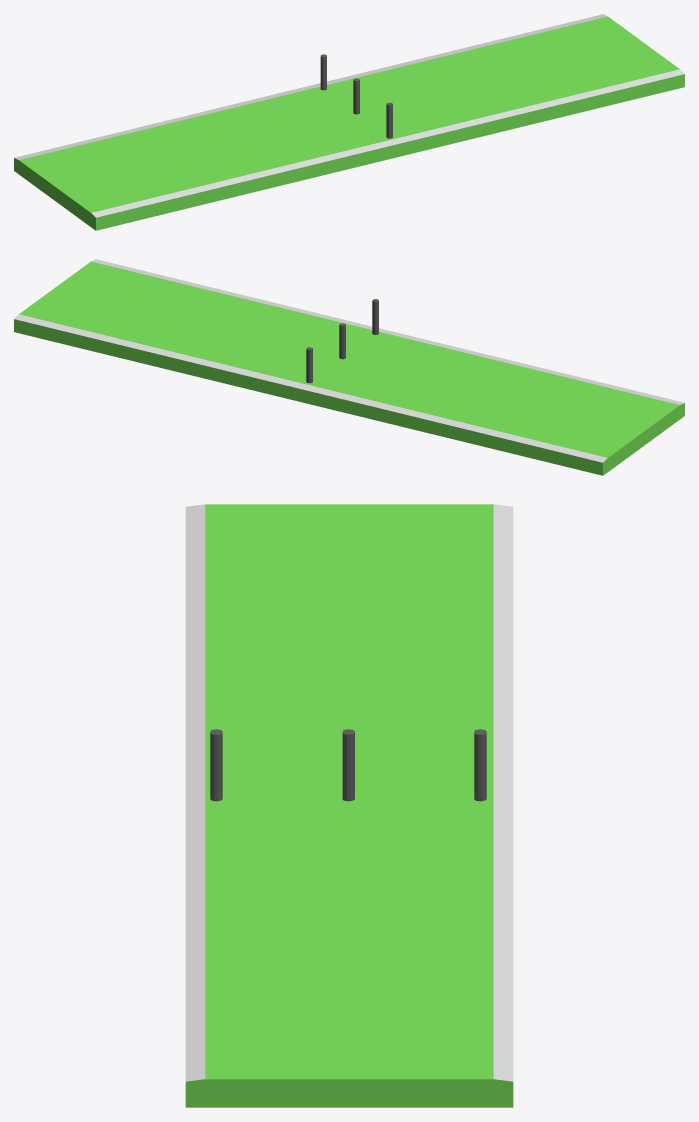
Rendered from ground08.fbx.
3 views of the same model, one above another, from view 1: azimuth 30°, elevation 25°; view 2: azimuth 150°, elevation 25°; view 3: azimuth 270°, elevation 25° (orthographic). The views are drawn at different scales.
Visible parts, largest first — view 1: ground08; view 2: ground08; view 3: ground08.
Part boxes in pixels (x1,y1,x2,y2): ground08: (14,14,684,230); ground08: (14,259,684,475); ground08: (185,504,513,1107).
Bounding box in the file's own units: 714 × 55.06 × 172.
